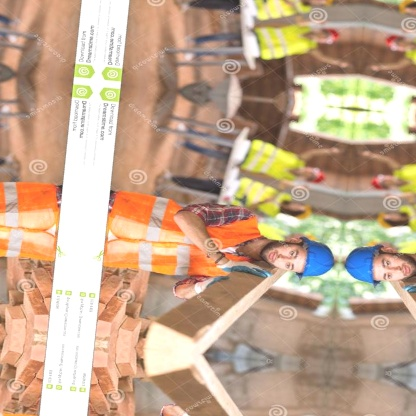blue: (293, 233, 338, 285)
vest: (102, 183, 270, 288), (241, 141, 307, 185), (232, 178, 293, 216)
